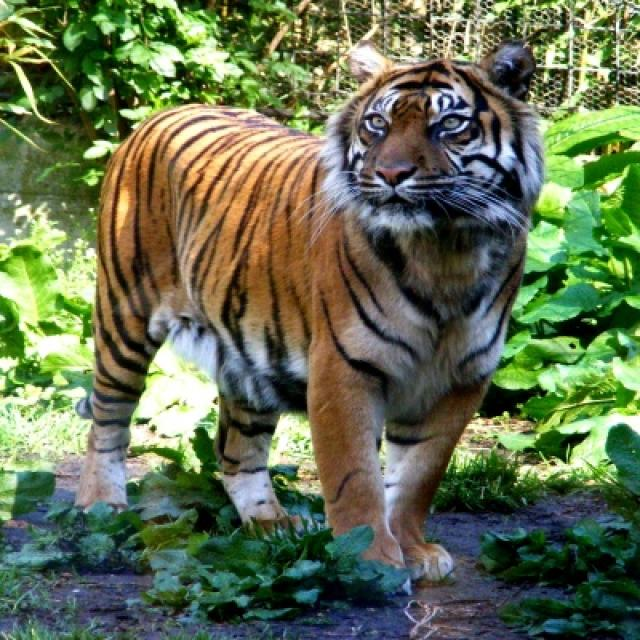Tiger: (78, 37, 542, 578)
